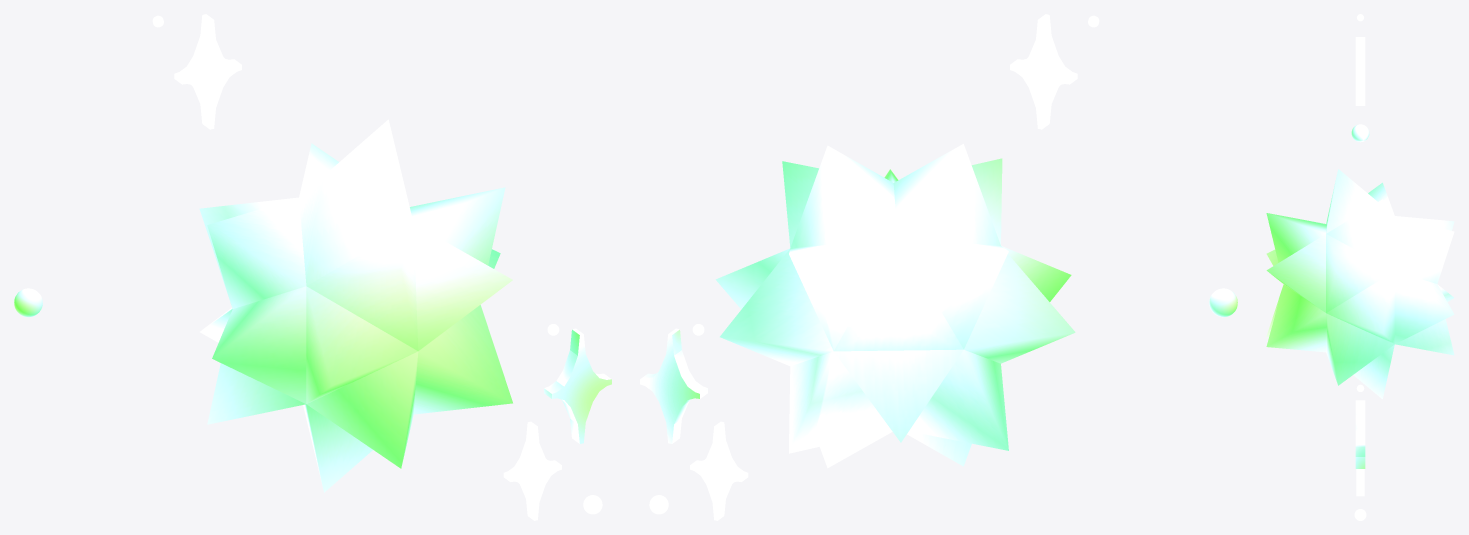
The model's file is star_teal.glb.
The picture shows the model from 3 angles, left to right: view 1: azimuth 30°, elevation 25°; view 2: azimuth 150°, elevation 25°; view 3: azimuth 270°, elevation 25°; orthographic projection. The views are drawn at different scales.
Visible parts, largest first — view 1: Star_Shape, Sparkle_2, Sparkle_3, Sparkle_1, Fleck_3; view 2: Star_Shape, Sparkle_2, Sparkle_3, Sparkle_1, Fleck_3; view 3: Star_Shape, Sparkle_2, Sparkle_3, Fleck_3, Sparkle_1.
Boxes of the visible parts, box(x1,y1,x2,y2) form: Star_Shape: box(199, 119, 512, 492); Sparkle_2: box(544, 328, 611, 443); Sparkle_3: box(174, 14, 241, 129); Sparkle_1: box(503, 421, 561, 520); Fleck_3: box(14, 288, 42, 317); Star_Shape: box(715, 144, 1075, 468); Sparkle_2: box(640, 328, 707, 443); Sparkle_3: box(1010, 14, 1077, 129); Sparkle_1: box(690, 421, 748, 520); Fleck_3: box(1209, 288, 1237, 317); Star_Shape: box(1266, 169, 1454, 398); Sparkle_2: box(1355, 400, 1365, 468); Sparkle_3: box(1355, 37, 1365, 105); Fleck_3: box(1351, 124, 1369, 142); Sparkle_1: box(1356, 469, 1364, 496).
Bounding box in the file's own units: 0.0439 × 0.0427 × 0.0195.
